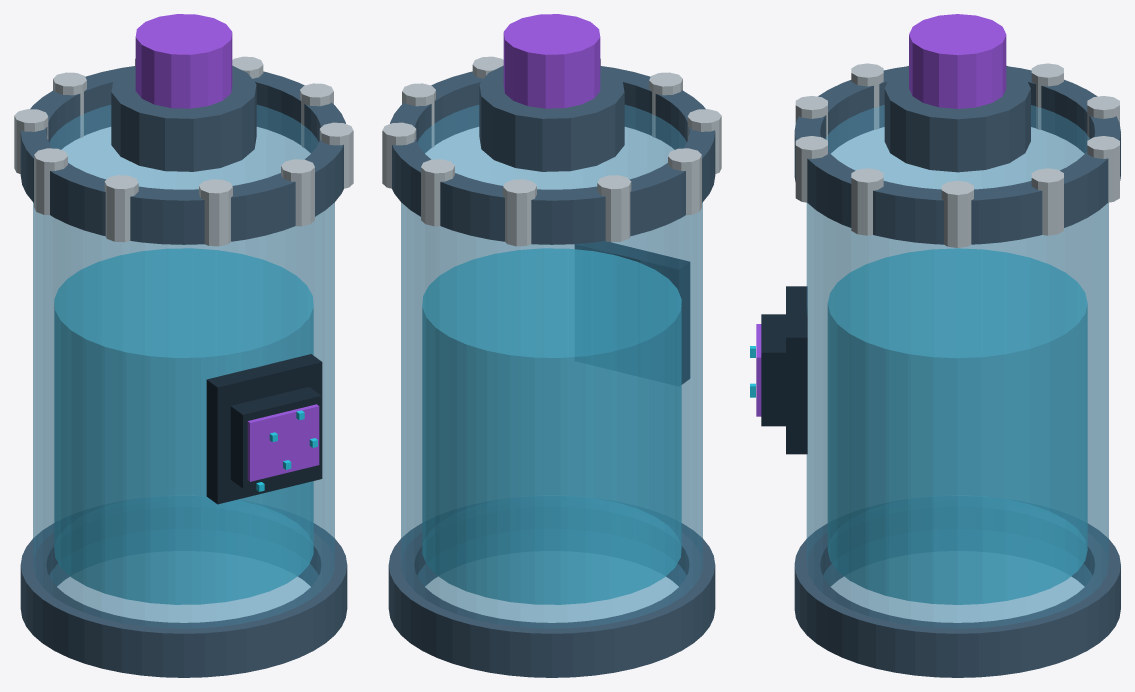
File: 37_L76_VirtualAcceleratorCartridge.fbx
The picture shows the model from 3 angles, left to right: view 1: azimuth 30°, elevation 25°; view 2: azimuth 150°, elevation 25°; view 3: azimuth 270°, elevation 25°; orthographic projection.
Visible parts, largest first — view 1: VirtualAcceleratorCartridge, VirtualAcceleratorCartridge_Part_0023; view 2: VirtualAcceleratorCartridge, VirtualAcceleratorCartridge_Part_0023; view 3: VirtualAcceleratorCartridge, VirtualAcceleratorCartridge_Part_0023.
Boxes of the visible parts, <box> form: VirtualAcceleratorCartridge: <box>14,56,353,677</box>; VirtualAcceleratorCartridge_Part_0023: <box>135,14,232,108</box>; VirtualAcceleratorCartridge: <box>382,56,721,677</box>; VirtualAcceleratorCartridge_Part_0023: <box>503,14,600,108</box>; VirtualAcceleratorCartridge: <box>750,63,1120,677</box>; VirtualAcceleratorCartridge_Part_0023: <box>909,14,1006,108</box>.
Size of the model in its own units: 69.93 by 130 by 76.08.
